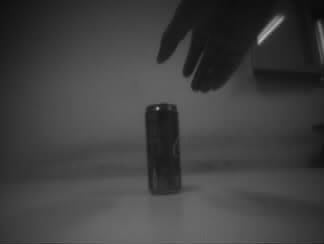Tin can: (145, 103, 183, 195)
